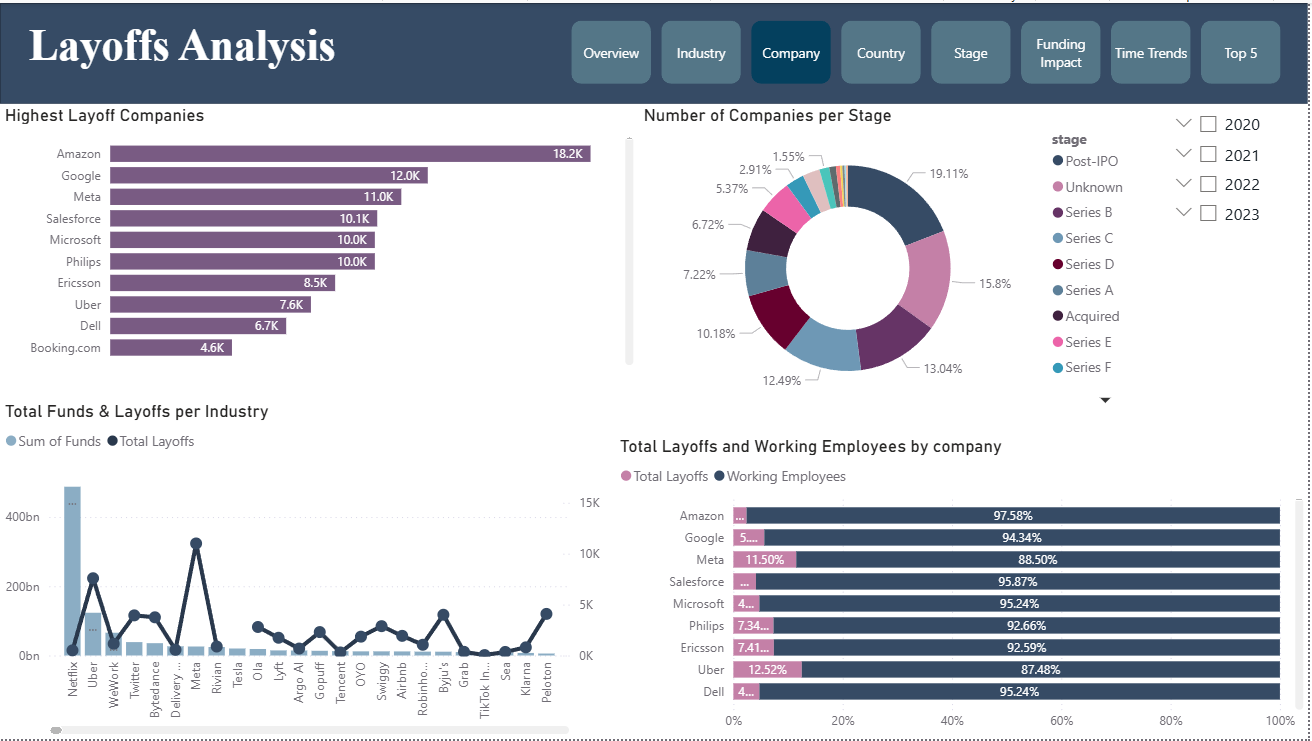

The dashboard page shown, as its layout file describes it:
{"tool":"powerbi","page":{"name":"Company","canvas":[1280,720],"ordinal":2},"visuals":[{"type":"shape","box":[0,0,1280.3,98.8],"z":0},{"type":"textbox","box":[23.3,12.3,333.4,74.1],"z":1000},{"type":"barChart","title":"Highest Layoff Companies","fields":{"Category":["layoffs_projcet layoffs.company"],"Y":["Sum(layoffs_projcet layoffs.total_laid_off)"]},"box":[0,99,624.9,260.5],"z":2000},{"type":"lineClusteredColumnComboChart","title":"Total Funds & Layoffs per Industry","fields":{"Category":["layoffs_projcet layoffs.company"],"Y":["Sum(layoffs_projcet layoffs.Funds_raised)"],"Y2":["Sum(layoffs_projcet layoffs.total_laid_off)"]},"box":[0,388.9,591.9,331.4],"z":3000},{"type":"hundredPercentStackedBarChart","fields":{"Y":["Sum(layoffs_projcet layoffs.total_laid_off)","Sum(layoffs_projcet layoffs.Total Working Employees)"],"Category":["layoffs_projcet layoffs.company"]},"box":[601.6,423.1,678.7,297.1],"z":4000},{"type":"donutChart","title":"Number of Companies per Stage","fields":{"Category":["layoffs_projcet layoffs.stage"],"Y":["CountNonNull(layoffs_projcet layoffs.company)"]},"box":[624.9,99,512.4,302],"z":5000},{"type":"slicer","fields":{"Values":["layoffs_projcet layoffs.date.Variation.Date Hierarchy.Year","layoffs_projcet layoffs.date.Variation.Date Hierarchy.Quarter","layoffs_projcet layoffs.date.Variation.Date Hierarchy.Month","layoffs_projcet layoffs.date.Variation.Date Hierarchy.Day"]},"box":[1137.2,99,143.1,200.5],"z":6000},{"type":"pageNavigator","box":[558.8,17.1,701.9,62.4],"z":7000}]}

Visuals, with their boxes in screenshot pixels (x1, y1, x2, y2), scaled from the page's 1280x720 canvas onto the 1312x741 screenshot:
shape: (0, 0, 1311, 102)
textbox: (24, 13, 366, 89)
"Highest Layoff Companies" barChart: (0, 102, 641, 370)
"Total Funds & Layoffs per Industry" lineClusteredColumnComboChart: (0, 400, 607, 740)
hundredPercentStackedBarChart - Sum(layoffs_projcet layoffs.total_laid_off) x Sum(layoffs_projcet layoffs.Total Working Employees): (617, 435, 1311, 740)
"Number of Companies per Stage" donutChart: (641, 102, 1166, 413)
slicer - layoffs_projcet layoffs.date.Variation.Date Hierarchy.Year x layoffs_projcet layoffs.date.Variation.Date Hierarchy.Quarter: (1166, 102, 1311, 308)
pageNavigator: (573, 18, 1292, 82)
